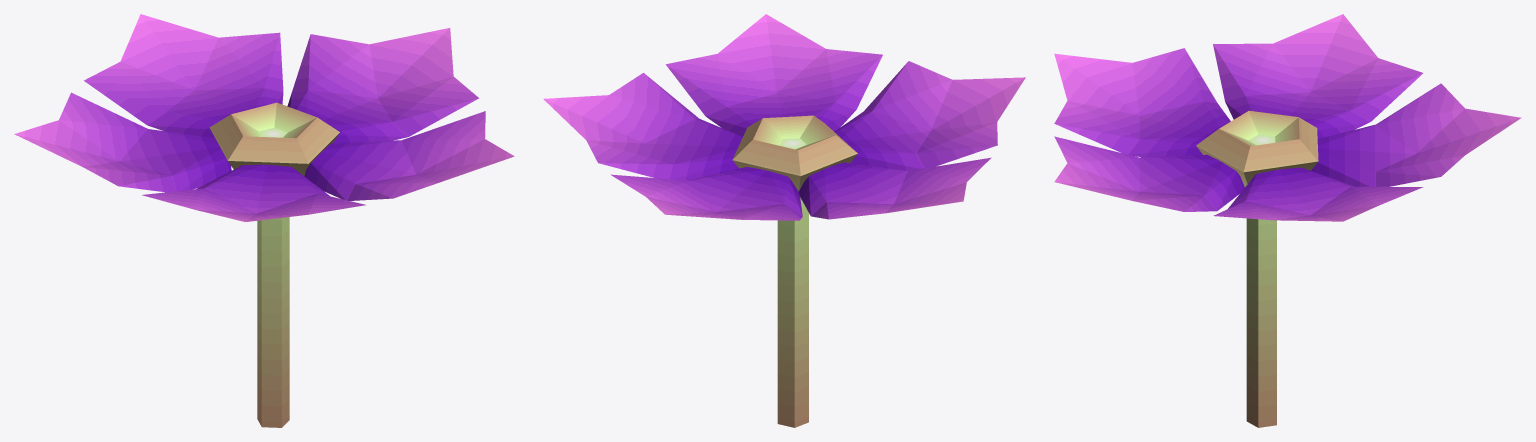
Rendered from flower.glb.
3 renders of one model, left to right at view 1: azimuth 30°, elevation 25°; view 2: azimuth 150°, elevation 25°; view 3: azimuth 270°, elevation 25°, orthographic. The views are drawn at different scales.
Visible parts, largest first — view 1: Cylinder.002, Cylinder.001; view 2: Cylinder.002, Cylinder.001; view 3: Cylinder.002, Cylinder.001.
Part boxes in pixels (x1,y1,x2,y2): Cylinder.002: [14, 14, 514, 221]; Cylinder.001: [209, 102, 339, 427]; Cylinder.002: [543, 14, 1025, 220]; Cylinder.001: [732, 115, 857, 427]; Cylinder.002: [1054, 14, 1521, 221]; Cylinder.001: [1196, 110, 1318, 427].
Bounding box in the file's own units: 4.22 × 2.87 × 4.01.
2 materials, 2 textured.
